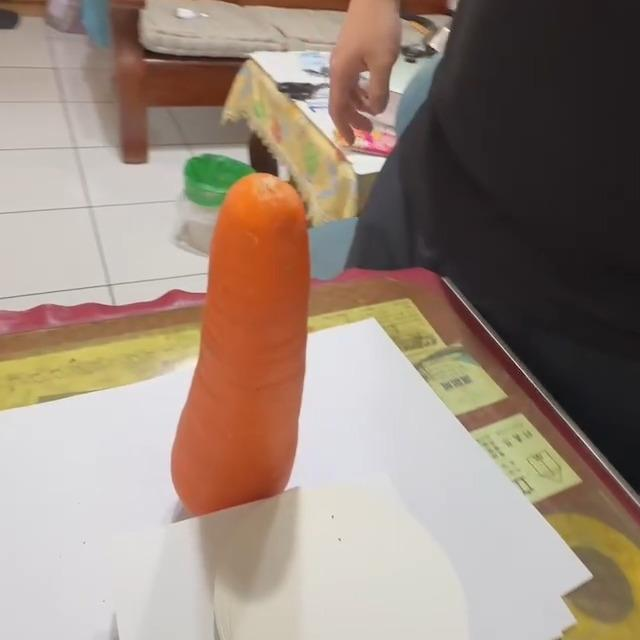carrot: (173, 174, 315, 512)
